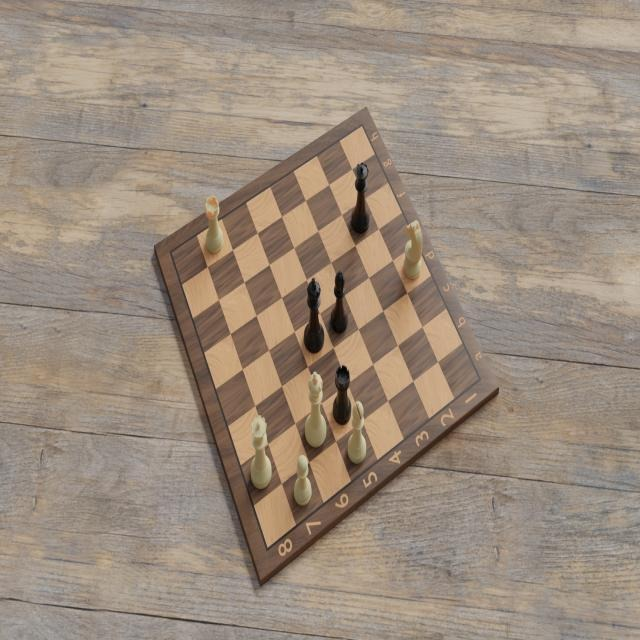black-bishop: (329, 269, 349, 335)
black-king: (303, 276, 326, 356)
black-queen: (349, 161, 372, 238)
black-rook: (331, 365, 353, 428)
white-bishop: (346, 399, 369, 471)
white-king: (301, 366, 326, 453)
white-knight: (401, 219, 423, 284)
white-pawn: (291, 449, 313, 510)
white-queen: (249, 413, 274, 495)
white-rook: (204, 194, 224, 258)
